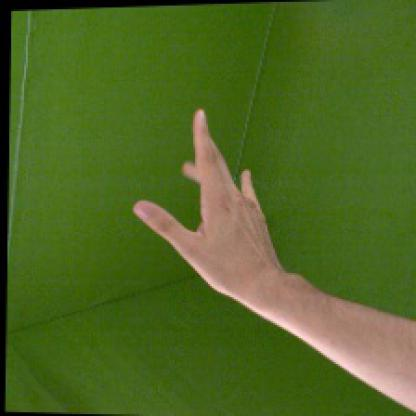Hand: (134, 108, 280, 302)
